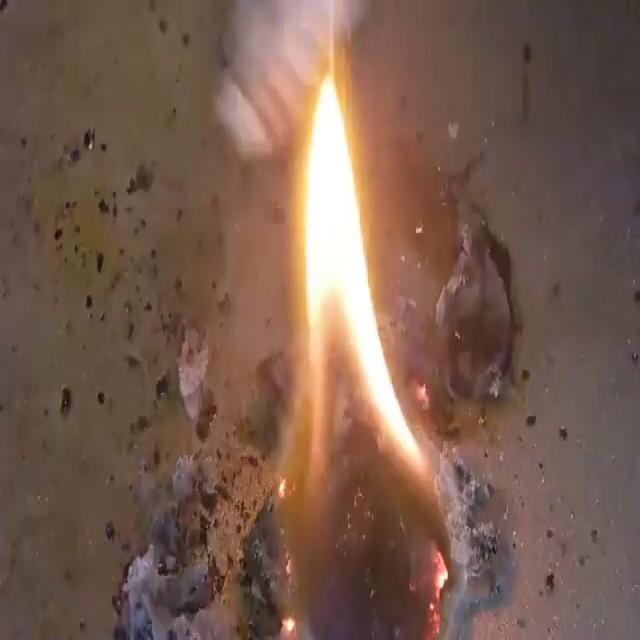Fire: (275, 64, 455, 636)
